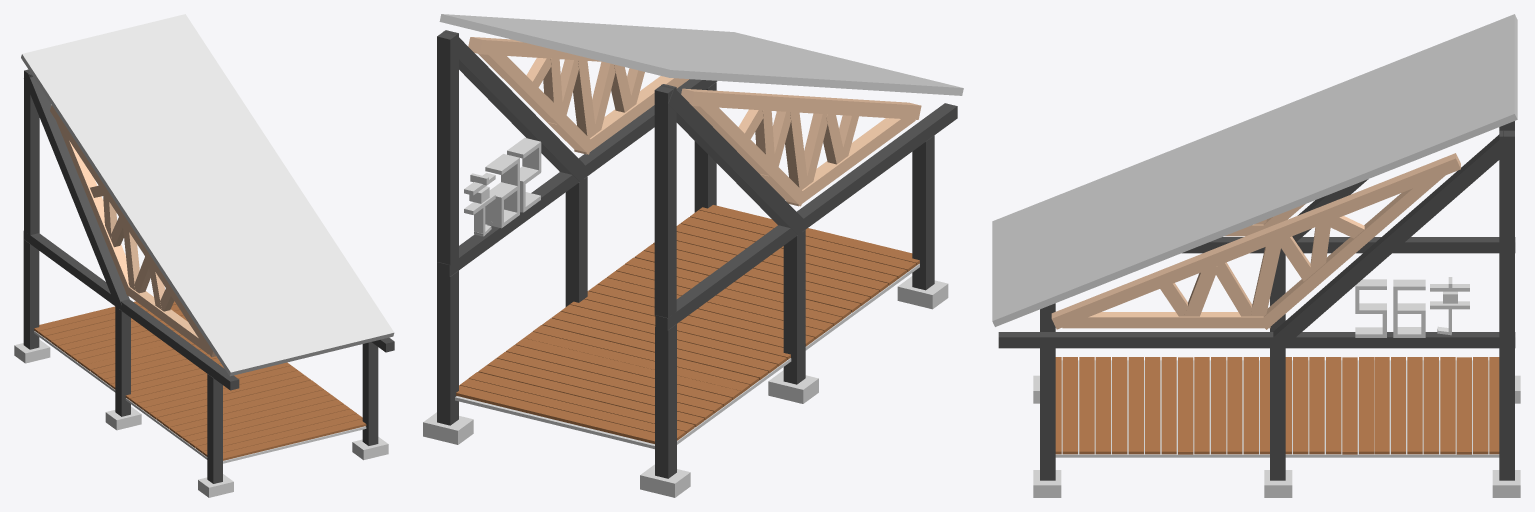
File: 56_Building.fbx
The picture shows the model from 3 angles, left to right: view 1: azimuth 30°, elevation 25°; view 2: azimuth 150°, elevation 25°; view 3: azimuth 270°, elevation 25°; orthographic projection. The views are drawn at different scales.
Parts seen in each view (by area): view 1: 立方體.045, 立方體.046, 立方體.042, 立方體.011, 立方體.006, 立方體.060, 立方體.009, 立方體.010, 立方體.058, 立方體.013, 立方體.059, 立方體.012 (+32 smaller); view 2: 立方體.045, 立方體.046, 立方體.043, 立方體.042, 立方體.048, 立方體.041, 立方體.058, 立方體.011, 立方體.009, 立方體.010, 立方體.008, 立方體.007 (+49 smaller); view 3: 立方體.045, 立方體.043, 立方體.041, 立方體.047, 立方體.012, 立方體.048, 立方體.050, 立方體.049, 立方體.042, 立方體.006, 立方體.007, 立方體.008 (+38 smaller).
Boxes of the visible parts, x1,y1,x2,y2 form: 立方體.045: [21, 14, 394, 376]; 立方體.046: [24, 69, 129, 308]; 立方體.042: [23, 231, 239, 390]; 立方體.011: [23, 239, 39, 349]; 立方體.006: [362, 342, 378, 445]; 立方體.060: [56, 118, 129, 295]; 立方體.009: [207, 374, 222, 483]; 立方體.010: [115, 306, 130, 416]; 立方體.058: [50, 105, 215, 357]; 立方體.013: [223, 419, 366, 460]; 立方體.059: [126, 285, 209, 354]; 立方體.012: [34, 331, 366, 463]; 立方體.045: [439, 14, 963, 95]; 立方體.046: [654, 84, 805, 317]; 立方體.043: [437, 30, 587, 265]; 立方體.042: [655, 103, 957, 330]; 立方體.048: [464, 137, 541, 236]; 立方體.041: [437, 79, 717, 277]; 立方體.058: [681, 88, 921, 119]; 立方體.011: [655, 324, 676, 478]; 立方體.009: [912, 135, 934, 290]; 立方體.010: [783, 229, 805, 384]; 立方體.008: [437, 270, 458, 425]; 立方體.007: [565, 176, 587, 306]; 立方體.045: [992, 14, 1517, 326]; 立方體.043: [1269, 130, 1514, 348]; 立方體.041: [998, 332, 1515, 348]; 立方體.047: [1051, 153, 1460, 329]; 立方體.012: [1055, 360, 1499, 457]; 立方體.048: [1355, 277, 1469, 337]; 立方體.050: [1258, 170, 1445, 329]; 立方體.049: [1062, 312, 1270, 328]; 立方體.042: [1182, 237, 1515, 253]; 立方體.006: [1040, 348, 1055, 480]; 立方體.007: [1270, 348, 1285, 480]; 立方體.008: [1499, 348, 1514, 480].
Bounding box in the file's own units: 1135 × 1823 × 2312.
